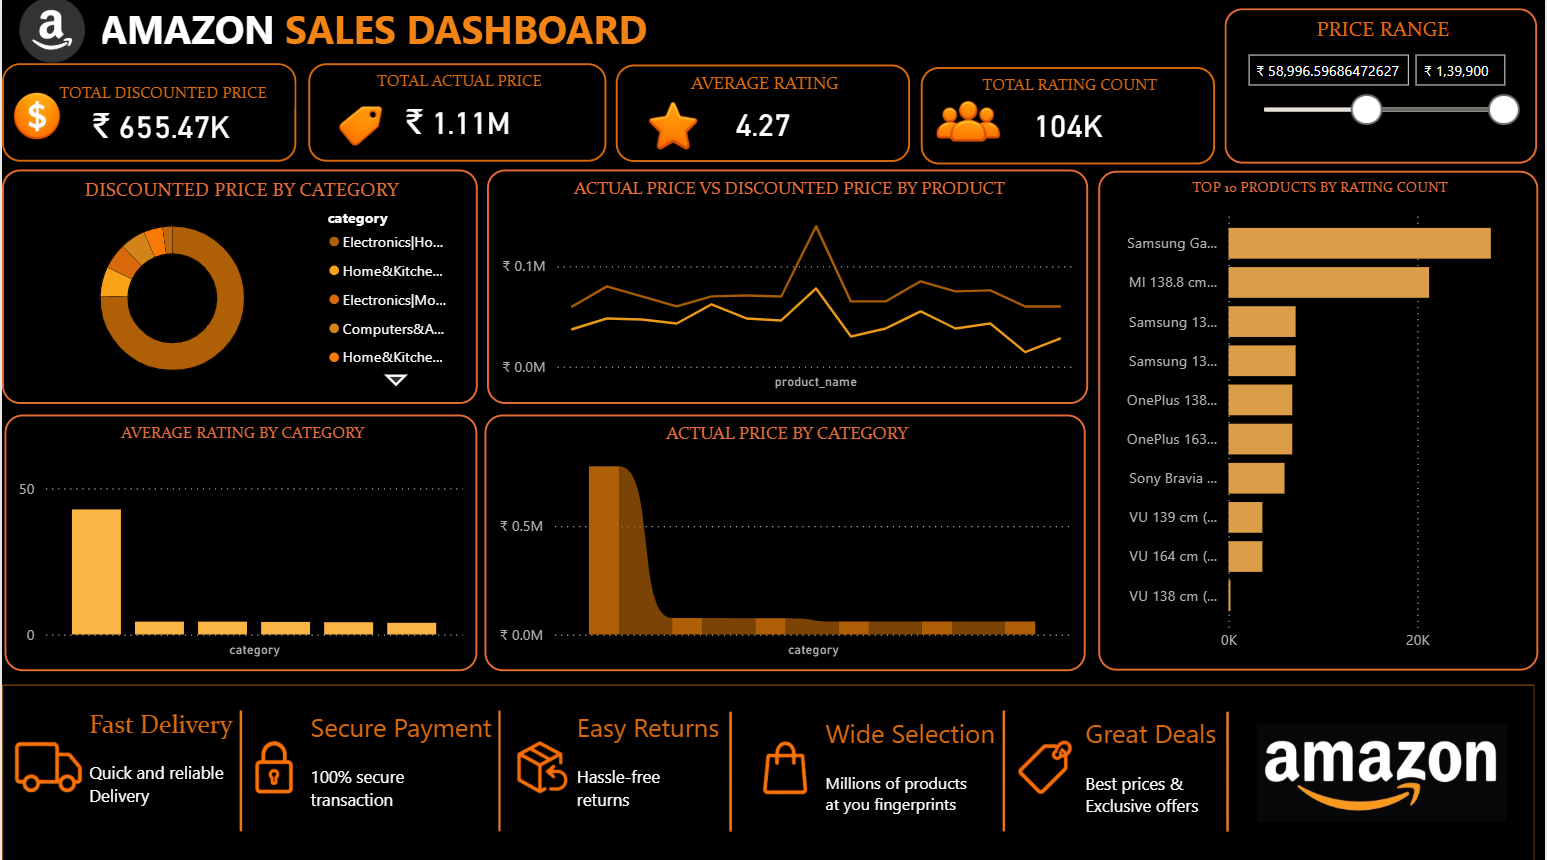

This screenshot's page, from the dashboard's own definition file:
{"tool":"powerbi","page":{"name":"Page 1","canvas":[1280,720],"ordinal":0},"visuals":[{"type":"textbox","box":[59.2,0,497.4,54.5],"z":0},{"type":"card","title":"TOTAL RATING COUNT","fields":{"Values":["Sum(Amazon data.rating_count)"]},"box":[761.5,58,244,80.5],"z":0,"group":"g3"},{"type":"card","title":"TOTAL ACTUAL PRICE","fields":{"Values":["Sum(Amazon data.actual_price)"]},"box":[253.4,54.5,247.5,81.7],"z":1000},{"type":"image","box":[772.9,76.9,55.7,52.1],"z":1000,"group":"g3"},{"type":"card","title":"AVERAGE RATING","fields":{"Values":["Avg(Amazon data.rating)"]},"box":[509.3,55.7,244,80.5],"z":2000},{"type":"image","box":[0,0,82.9,54.5],"z":3000},{"type":"image","box":[278.3,86.5,37.9,41.5],"z":4000},{"type":"image","box":[529.4,86.5,54.5,41.5],"z":5000},{"type":"group","id":"g1","title":"Group 2","box":[0,54.5,244,81.7],"z":6000},{"type":"card","title":"TOTAL DISCOUNTED PRICE","fields":{"Values":["Sum(Amazon data.discounted_price)"]},"box":[0,54.5,244,81.7],"z":6001,"group":"g2"},{"type":"group","id":"g2","title":"Group 1","box":[0,54.5,244,81.7],"z":6002,"group":"g1"},{"type":"image","box":[2.6,77.6,53.3,41.5],"z":6007,"group":"g1"},{"type":"group","id":"g3","title":"Group 3","box":[761.5,58,244,80.5],"z":7000},{"type":"slicer","title":"PRICE RANGE","fields":{"Values":["Amazon data.actual_price"]},"box":[1013.8,9.5,259.4,129.1],"z":8000},{"type":"donutChart","title":"DISCOUNTED PRICE BY CATEGORY","fields":{"Y":["Sum(Amazon data.discounted_price)"],"Category":["Amazon data.category"]},"box":[0,143,394.4,194.2],"z":9000},{"type":"lineChart","title":"ACTUAL PRICE VS DISCOUNTED PRICE BY PRODUCT","fields":{"Y":["Sum(Amazon data.actual_price)","Sum(Amazon data.discounted_price)"],"Category":["Amazon data.category Hierarchy.category","Amazon data.category Hierarchy.product_name"]},"box":[402,143.3,498.6,194.2],"z":10000},{"type":"barChart","title":"TOP 10 PRODUCTS BY RATING COUNT","fields":{"Y":["Sum(Amazon data.rating_count)"],"Category":["Amazon data.product_name"]},"box":[908.4,144.5,364.8,414.5],"z":11000},{"type":"columnChart","title":"AVERAGE RATING BY CATEGORY","fields":{"Category":["Amazon data.category"],"Y":["Sum(Amazon data.rating)"]},"box":[2.4,345.8,392,213.2],"z":12000},{"type":"ribbonChart","title":"ACTUAL PRICE BY CATEGORY","fields":{"Category":["Amazon data.category"],"Y":["Sum(Amazon data.actual_price)"]},"box":[400,345.8,498.6,213.2],"z":13000},{"type":"shape","box":[0,569.7,1270.8,150.4],"z":14000},{"type":"image","box":[8.3,615.8,59.2,46.2],"z":15000},{"type":"textbox","box":[67.5,585,131.5,120.8],"z":16000},{"type":"image","box":[172.9,589.8,49.7,104.2],"z":17000},{"type":"image","box":[200,615.8,50.9,46.2],"z":18000},{"type":"textbox","box":[251.1,585,174.1,120.8],"z":19000},{"type":"image","box":[352.9,589.8,118.4,104.2],"z":20000},{"type":"image","box":[409,615.8,75.8,46.2],"z":21000},{"type":"textbox","box":[472,585,132.6,109],"z":22000},{"type":"image","box":[525.8,591,157.5,103],"z":23000},{"type":"image","box":[619.4,615.8,58,46.2],"z":24000},{"type":"textbox","box":[677.4,591,151.6,103],"z":25000},{"type":"image","box":[765,589.8,132.6,104.2],"z":25001},{"type":"image","box":[836,615.8,56.8,46.2],"z":25002},{"type":"textbox","box":[893,591,120.8,103],"z":25003},{"type":"image","box":[953,591,125.5,103],"z":25004},{"type":"image","box":[1032.7,601.6,221.5,81.7],"z":25005}]}

Visuals, with their boxes in screenshot pixels (x1, y1, x2, y2), scaled from the page's 1280x720 canvas onto the 1547x860 screenshot:
textbox: 72:0:673:65
"TOTAL RATING COUNT" card: 920:69:1215:165
"TOTAL ACTUAL PRICE" card: 306:65:605:163
image: 934:92:1001:154
"AVERAGE RATING" card: 616:67:910:163
image: 0:0:100:65
image: 336:103:382:153
image: 640:103:706:153
"Group 2" group: 0:65:295:163
"TOTAL DISCOUNTED PRICE" card: 0:65:295:163
"Group 1" group: 0:65:295:163
image: 3:93:68:142
"Group 3" group: 920:69:1215:165
"PRICE RANGE" slicer: 1225:11:1539:166
"DISCOUNTED PRICE BY CATEGORY" donutChart: 0:171:477:403
"ACTUAL PRICE VS DISCOUNTED PRICE BY PRODUCT" lineChart: 486:171:1088:403
"TOP 10 PRODUCTS BY RATING COUNT" barChart: 1098:173:1539:668
"AVERAGE RATING BY CATEGORY" columnChart: 3:413:477:668
"ACTUAL PRICE BY CATEGORY" ribbonChart: 483:413:1086:668
shape: 0:680:1536:859
image: 10:736:82:791
textbox: 82:699:241:843
image: 209:704:269:829
image: 242:736:303:791
textbox: 303:699:514:843
image: 427:704:570:829
image: 494:736:586:791
textbox: 570:699:731:829
image: 635:706:826:829
image: 749:736:819:791
textbox: 819:706:1002:829
image: 925:704:1085:829
image: 1010:736:1079:791
textbox: 1079:706:1225:829
image: 1152:706:1303:829
image: 1248:719:1516:816
